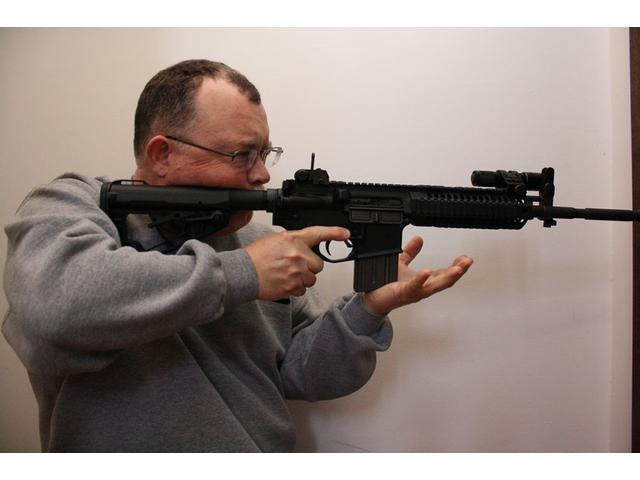rifle: (99, 166, 636, 303)
